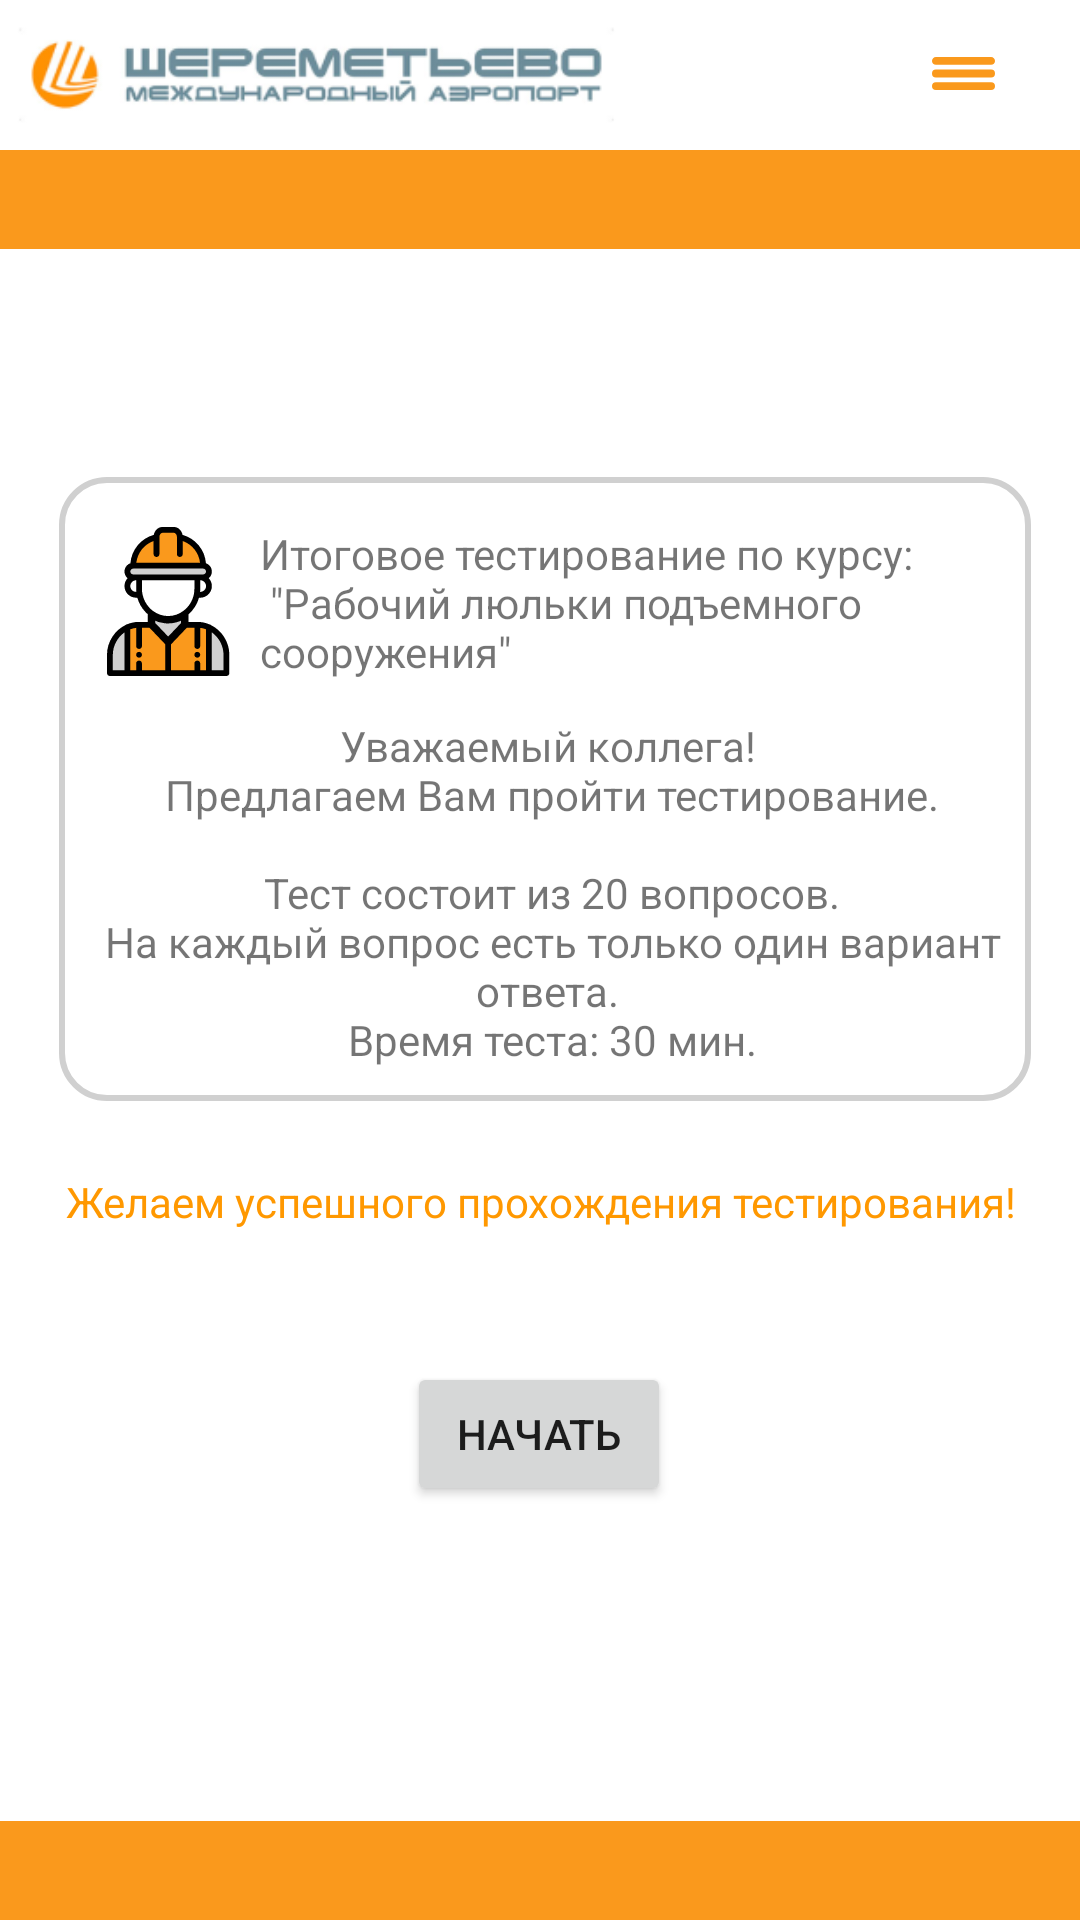

Icons on this 1080px x 1920px Android screen, each with the point to tap as [x,y]:
menu: [963,73]
